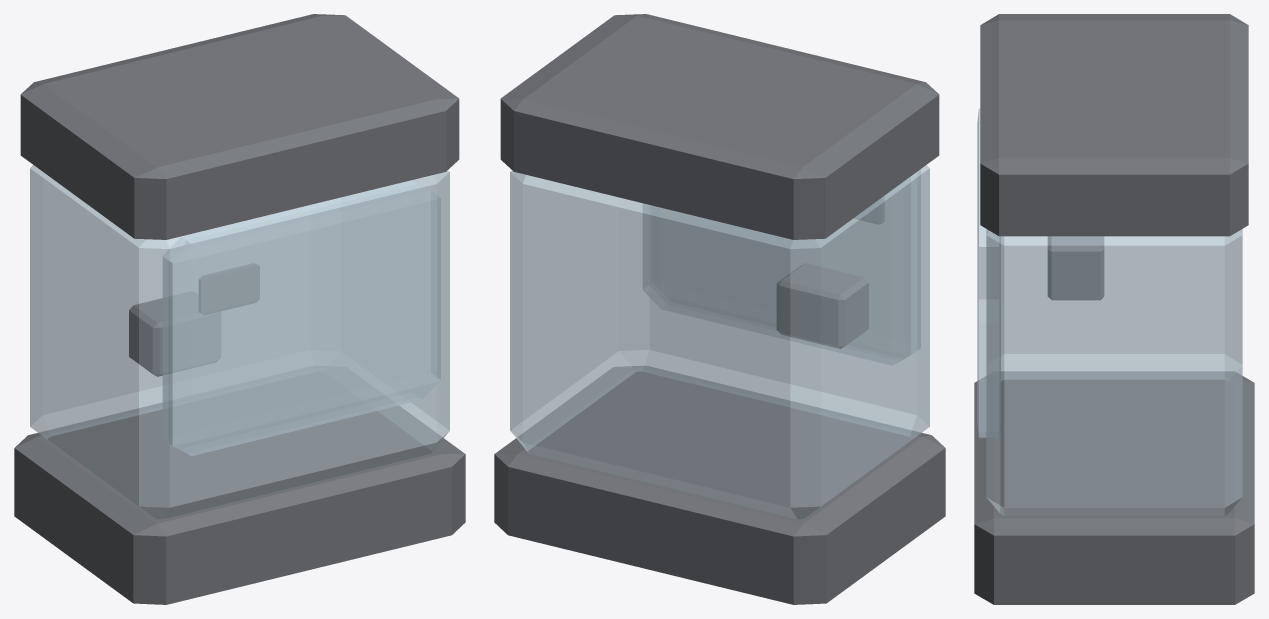
File: b12_gable_dormer_window.glb
3 views of the same model, side by side, from view 1: azimuth 30°, elevation 25°; view 2: azimuth 150°, elevation 25°; view 3: azimuth 270°, elevation 25° (orthographic).
Visible parts, largest first — view 1: b12_gable_dormer_window; view 2: b12_gable_dormer_window; view 3: b12_gable_dormer_window.
Boxes of the visible parts, left/top/right/bottom form: b12_gable_dormer_window: left=14, top=14, right=465, bottom=604; b12_gable_dormer_window: left=494, top=14, right=945, bottom=604; b12_gable_dormer_window: left=974, top=14, right=1254, bottom=604.
Size of the model in its own units: 1.54 by 1.93 by 1.12.
